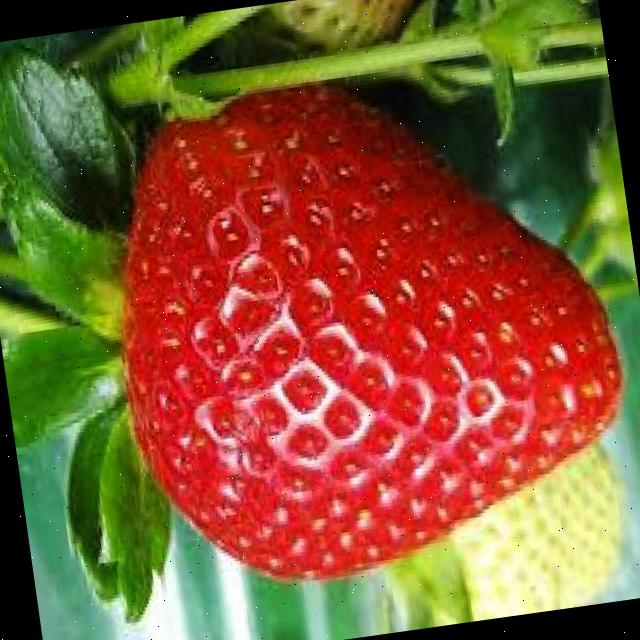strawberry: (88, 44, 640, 601)
